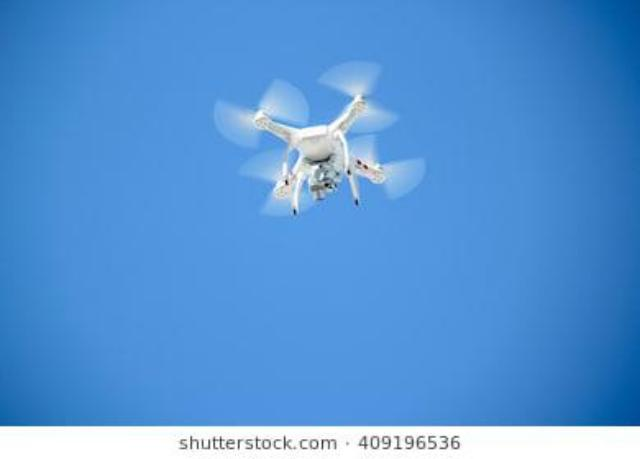drone: (165, 28, 483, 262)
